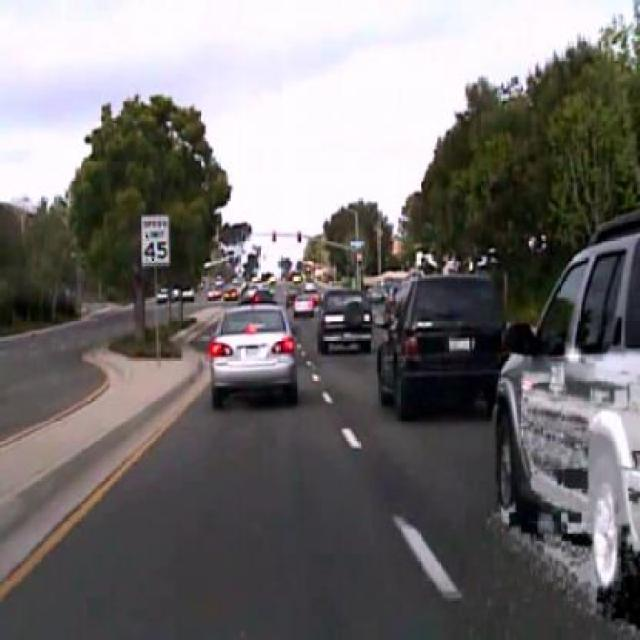speedLimit45: (140, 215, 170, 268)
